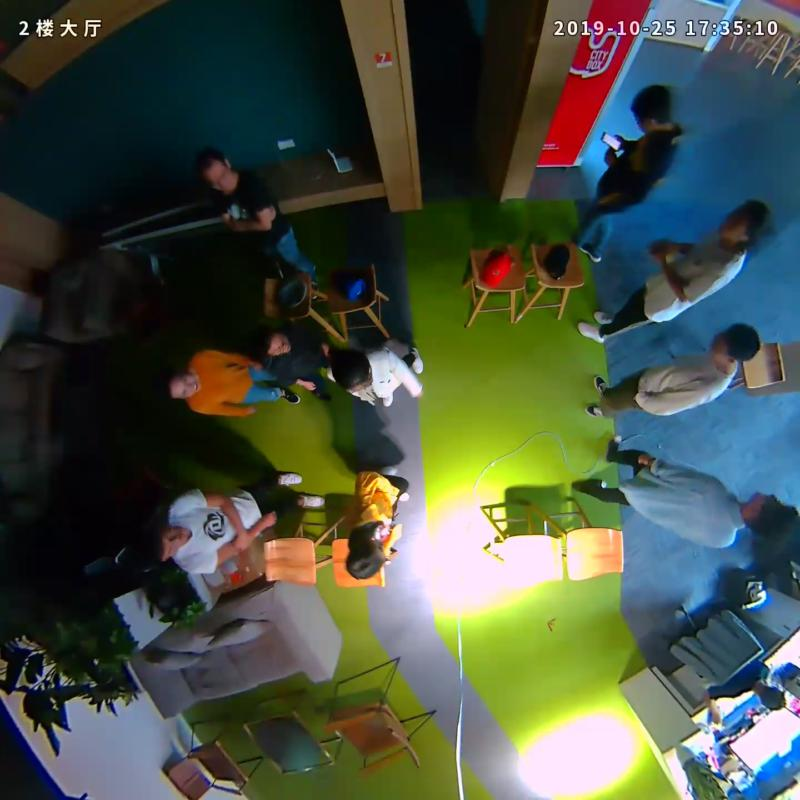head: (745, 491, 800, 540), (718, 199, 771, 249), (129, 523, 188, 567), (710, 323, 760, 368), (630, 85, 673, 133), (329, 349, 372, 394), (346, 535, 386, 580), (196, 147, 234, 193), (161, 367, 202, 401), (254, 325, 291, 358)
